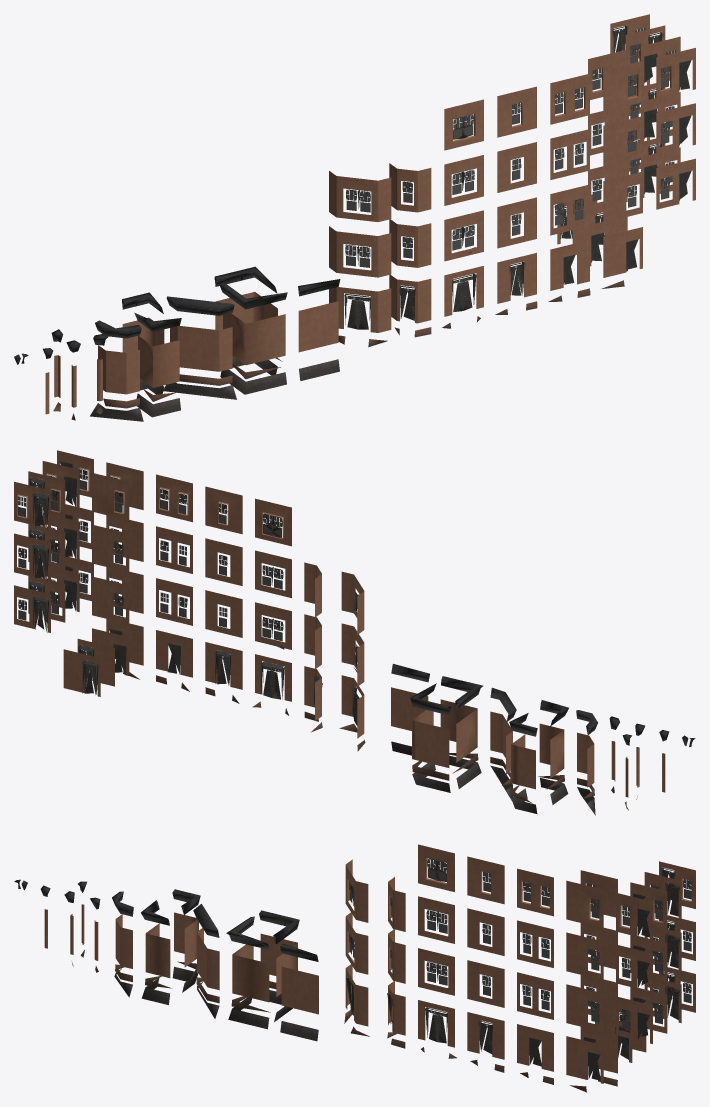
The picture shows the model from 3 angles, top to bottom: view 1: azimuth 30°, elevation 25°; view 2: azimuth 150°, elevation 25°; view 3: azimuth 330°, elevation 25°; orthographic projection. The views are drawn at different scales.
Parts seen in each view (by area): view 1: door_angled_small_01, door_angled_small_01.001, door_angled_small_01.002, door_angled_small_01.003, door_angled_small_01.004; view 2: door_angled_small_01, door_angled_small_01.001, door_angled_small_01.002, door_angled_small_01.003, door_angled_small_01.004; view 3: door_angled_small_01, door_angled_small_01.001, door_angled_small_01.002, door_angled_small_01.003, door_angled_small_01.004.
Part boxes in pixels (x1,y1,x2,y2): door_angled_small_01: (45, 14, 695, 414); door_angled_small_01.001: (344, 25, 691, 329); door_angled_small_01.002: (345, 28, 674, 299); door_angled_small_01.003: (53, 267, 627, 421); door_angled_small_01.004: (14, 266, 340, 364); door_angled_small_01: (14, 450, 665, 797); door_angled_small_01.001: (18, 461, 359, 725); door_angled_small_01.002: (18, 469, 358, 698); door_angled_small_01.003: (123, 670, 637, 815); door_angled_small_01.004: (391, 663, 695, 746); door_angled_small_01: (44, 844, 695, 1083); door_angled_small_01.001: (346, 858, 691, 1080); door_angled_small_01.002: (349, 859, 691, 1031); door_angled_small_01.003: (71, 950, 617, 1092); door_angled_small_01.004: (14, 879, 318, 961).
Size of the model in its own units: 51.47 by 17 by 6.87.
Materials: 5 (5 with a texture image).
